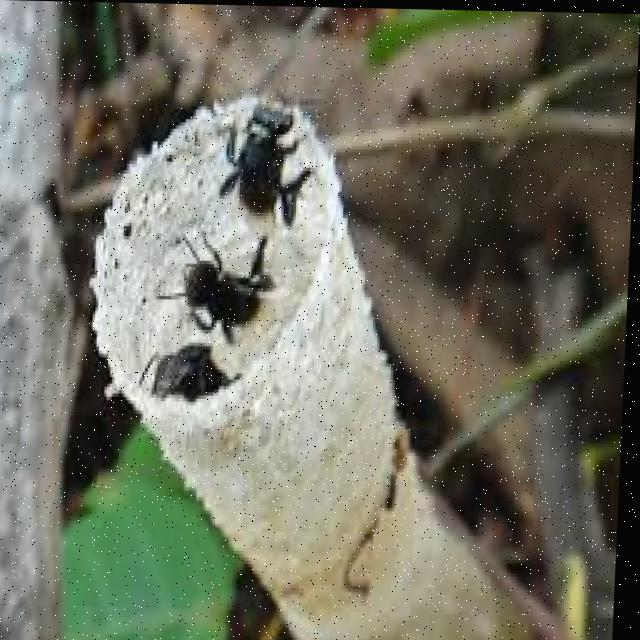Meliponula: (165, 217, 280, 363), (220, 84, 305, 236), (132, 323, 243, 432)
